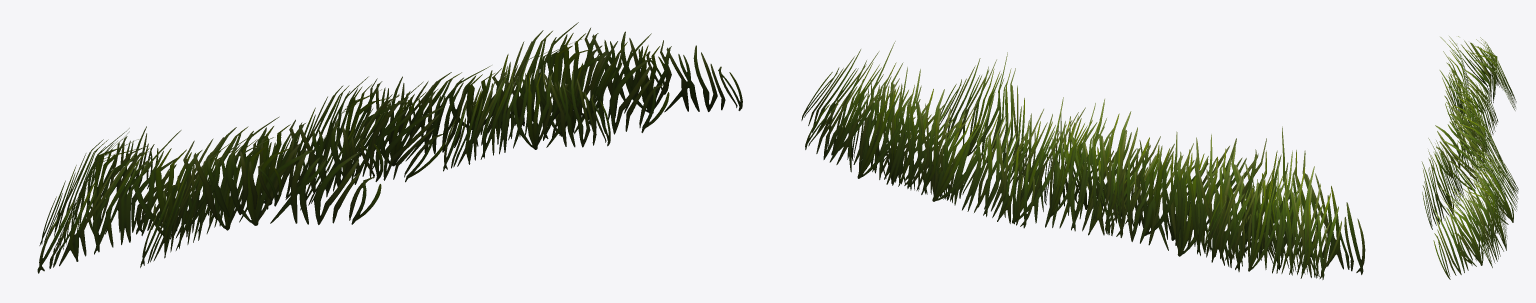
File: grassKit_front_border_d.fbx
The picture shows the model from 3 angles, left to right: view 1: azimuth 30°, elevation 25°; view 2: azimuth 150°, elevation 25°; view 3: azimuth 270°, elevation 25°; orthographic projection. The views are drawn at different scales.
Visible parts, largest first — view 1: grassKit_front_border_d; view 2: grassKit_front_border_d; view 3: grassKit_front_border_d.
Part boxes in pixels (x1,y1,x2,y2): grassKit_front_border_d: (37, 22, 742, 273); grassKit_front_border_d: (801, 41, 1365, 279); grassKit_front_border_d: (1421, 36, 1518, 279).
Bounding box in the file's own units: 4.74 × 1.08 × 1.04.
